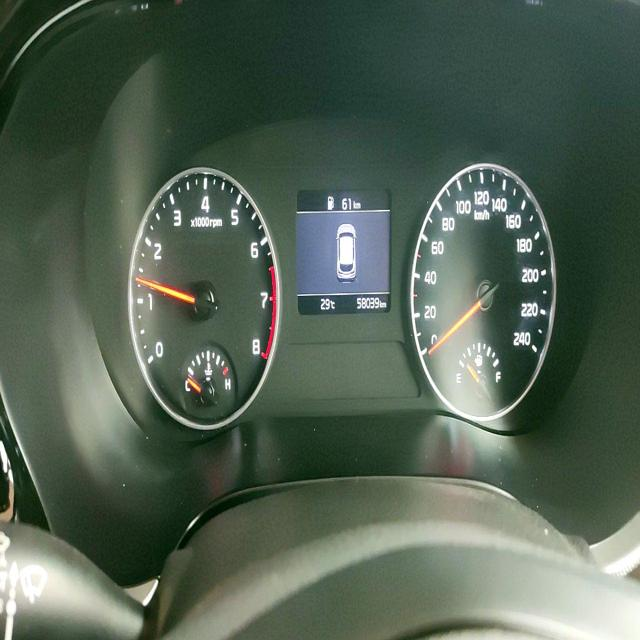odometer: (353, 292, 381, 313)
